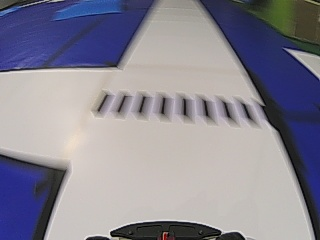CrossWalk: (98, 94, 258, 124)
